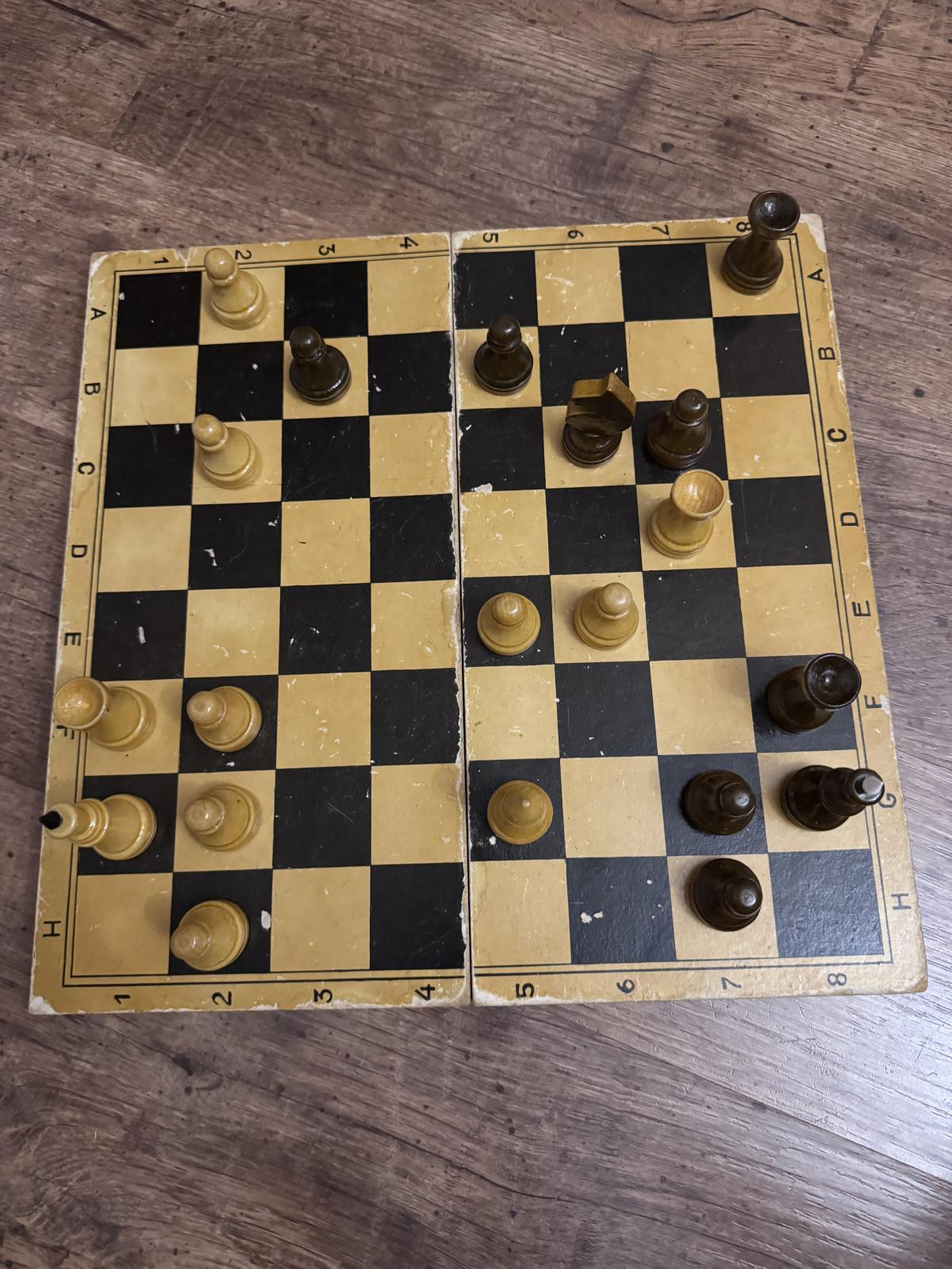Chess-Board: (71, 238, 883, 976)
